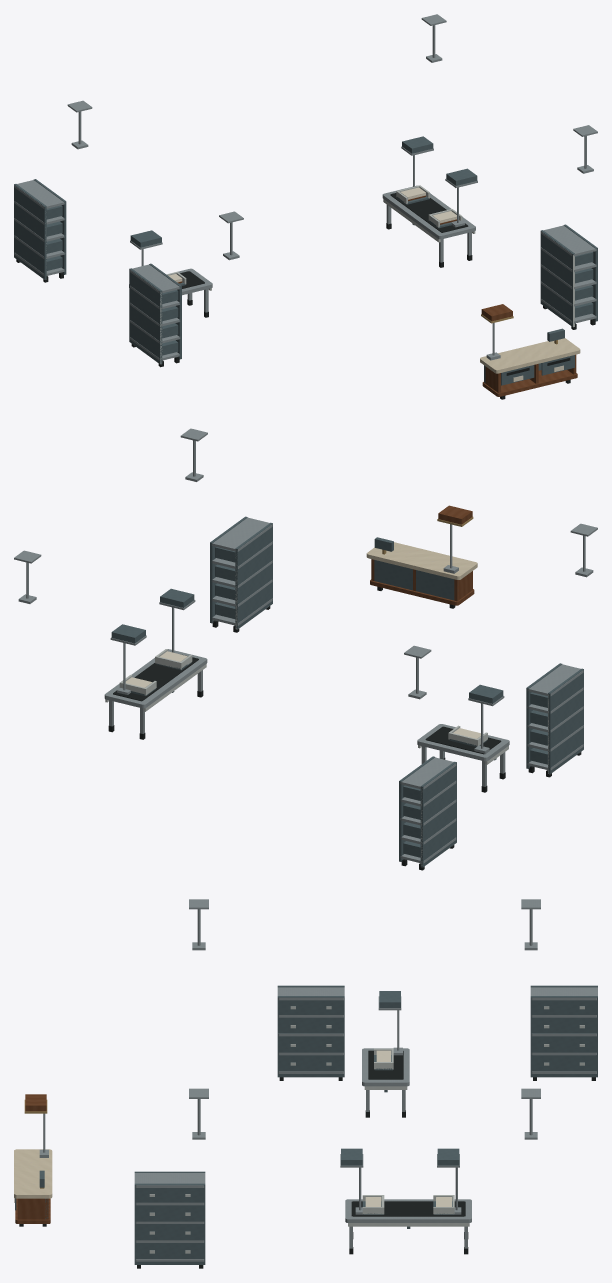
File: G8_LIBRARY_SERVICE_r005_unbatched.glb
3 views of the same model, one above another, from view 1: azimuth 30°, elevation 25°; view 2: azimuth 150°, elevation 25°; view 3: azimuth 270°, elevation 25° (orthographic). The views are drawn at different scales.
Parts seen in each view (by area): view 1: G8L_ReadyCollectionHold_BackFrontPost-1, G8L_InspectionFolioHold_BackFrontPost-1, G8L_DispatchCollectionHold_BackFrontPost-1, G8L_PublicReturns_PublicLowTop, G8L_ReturnsInspection_ProfiledTop, G8L_PublicReturns_LowerPlinth, G8L_DispatchCollectionHold_Shelf2.2, G8L_ReturnsInspection_ConservationMat, G8L_InspectionFolioHold_Shelf2.2, G8L_ReadyCollectionHold_Shelf2.2; view 2: G8L_DispatchCollectionHold_BackFrontPost-1, G8L_InspectionFolioHold_BackFrontPost-1, G8L_ReadyCollectionHold_BackFrontPost-1, G8L_PublicReturns_PublicLowTop, G8L_PublicReturns_ClosedBack, G8L_ReturnsInspection_ProfiledTop, G8L_DispatchCollectionHold_Shelf2.2, G8L_ConservationBench_ProfiledTop, G8L_ReturnsInspection_ConservationMat, G8L_ReadyCollectionHold_Shelf2.2, G8L_InspectionFolioHold_Shelf2.2, G8L_ConservationBench_ConservationMat (+1 smaller); view 3: G8L_DispatchCollectionHold_BackFrontPost1, G8L_ReadyCollectionHold_BackFrontPost1, G8L_InspectionFolioHold_BackFrontPost1, G8L_PublicReturns_PublicLowTop, G8L_ReturnsInspection_ProfiledTop, G8L_ReturnsInspection_ConservationMat, G8L_DispatchCollectionHold_Shelf2.2, G8L_ReadyCollectionHold_Shelf2.2, G8L_InspectionFolioHold_Shelf2.2, G8L_ConservationBench_ProfiledTop, G8L_PublicReturns_Vertical1.15, G8L_ConservationBench_ConservationMat (+1 smaller).
Boxes of the visible parts, left/top/right/bottom form: G8L_ReadyCollectionHold_BackFrontPost-1: left=129, top=268, right=162, bottom=363; G8L_InspectionFolioHold_BackFrontPost-1: left=14, top=184, right=46, bottom=279; G8L_DispatchCollectionHold_BackFrontPost-1: left=540, top=230, right=574, bottom=326; G8L_PublicReturns_PublicLowTop: left=480, top=338, right=580, bottom=373; G8L_ReturnsInspection_ProfiledTop: left=382, top=185, right=475, bottom=239; G8L_PublicReturns_LowerPlinth: left=482, top=370, right=577, bottom=396; G8L_DispatchCollectionHold_Shelf2.2: left=541, top=225, right=596, bottom=256; G8L_ReturnsInspection_ConservationMat: left=390, top=193, right=468, bottom=232; G8L_InspectionFolioHold_Shelf2.2: left=14, top=180, right=64, bottom=208; G8L_ReadyCollectionHold_Shelf2.2: left=130, top=264, right=180, bottom=293; G8L_DispatchCollectionHold_BackFrontPost-1: left=235, top=522, right=272, bottom=629; G8L_InspectionFolioHold_BackFrontPost-1: left=420, top=761, right=456, bottom=866; G8L_ReadyCollectionHold_BackFrontPost-1: left=548, top=668, right=583, bottom=773; G8L_PublicReturns_PublicLowTop: left=366, top=542, right=477, bottom=579; G8L_PublicReturns_ClosedBack: left=374, top=560, right=454, bottom=600; G8L_ReturnsInspection_ProfiledTop: left=104, top=649, right=207, bottom=708; G8L_DispatchCollectionHold_Shelf2.2: left=212, top=517, right=272, bottom=551; G8L_ConservationBench_ProfiledTop: left=417, top=724, right=509, bottom=761; G8L_ReturnsInspection_ConservationMat: left=113, top=654, right=198, bottom=701; G8L_ReadyCollectionHold_Shelf2.2: left=527, top=664, right=583, bottom=695; G8L_InspectionFolioHold_Shelf2.2: left=400, top=757, right=456, bottom=788; G8L_ConservationBench_ConservationMat: left=425, top=726, right=501, bottom=754; G8L_DispatchCollectionHold_BackFrontPost1: left=134, top=1183, right=205, bottom=1264; G8L_ReadyCollectionHold_BackFrontPost1: left=277, top=996, right=344, bottom=1077; G8L_InspectionFolioHold_BackFrontPost1: left=530, top=996, right=597, bottom=1077; G8L_PublicReturns_PublicLowTop: left=14, top=1149, right=52, bottom=1198; G8L_ReturnsInspection_ProfiledTop: left=345, top=1199, right=471, bottom=1222; G8L_ReturnsInspection_ConservationMat: left=351, top=1201, right=465, bottom=1216; G8L_DispatchCollectionHold_Shelf2.2: left=134, top=1173, right=205, bottom=1187; G8L_ReadyCollectionHold_Shelf2.2: left=277, top=987, right=344, bottom=1000; G8L_InspectionFolioHold_Shelf2.2: left=530, top=987, right=597, bottom=1000; G8L_ConservationBench_ProfiledTop: left=362, top=1048, right=409, bottom=1086; G8L_PublicReturns_Vertical1.15: left=17, top=1198, right=48, bottom=1219; G8L_ConservationBench_ConservationMat: left=368, top=1050, right=403, bottom=1079.
Size of the model in its own units: 12.13 by 4.93 by 14.07.
Materials: 9 (8 with a texture image).
